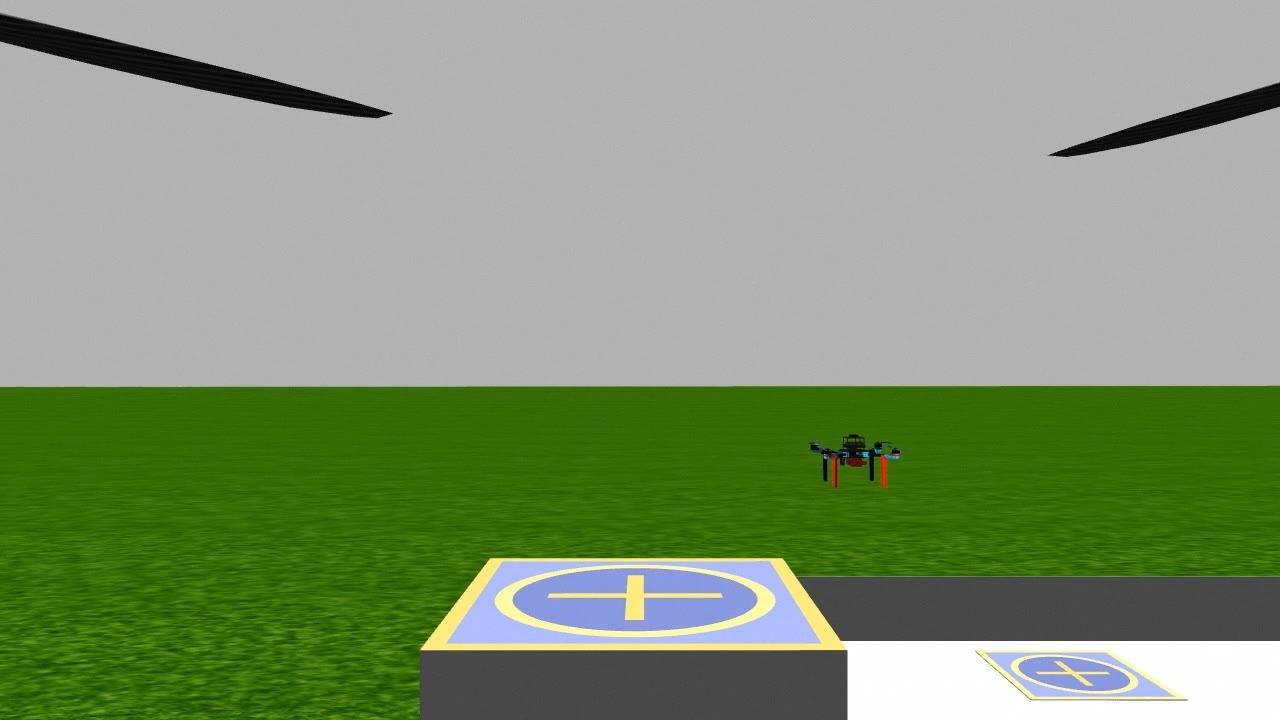UAV: (804, 431, 908, 495)
